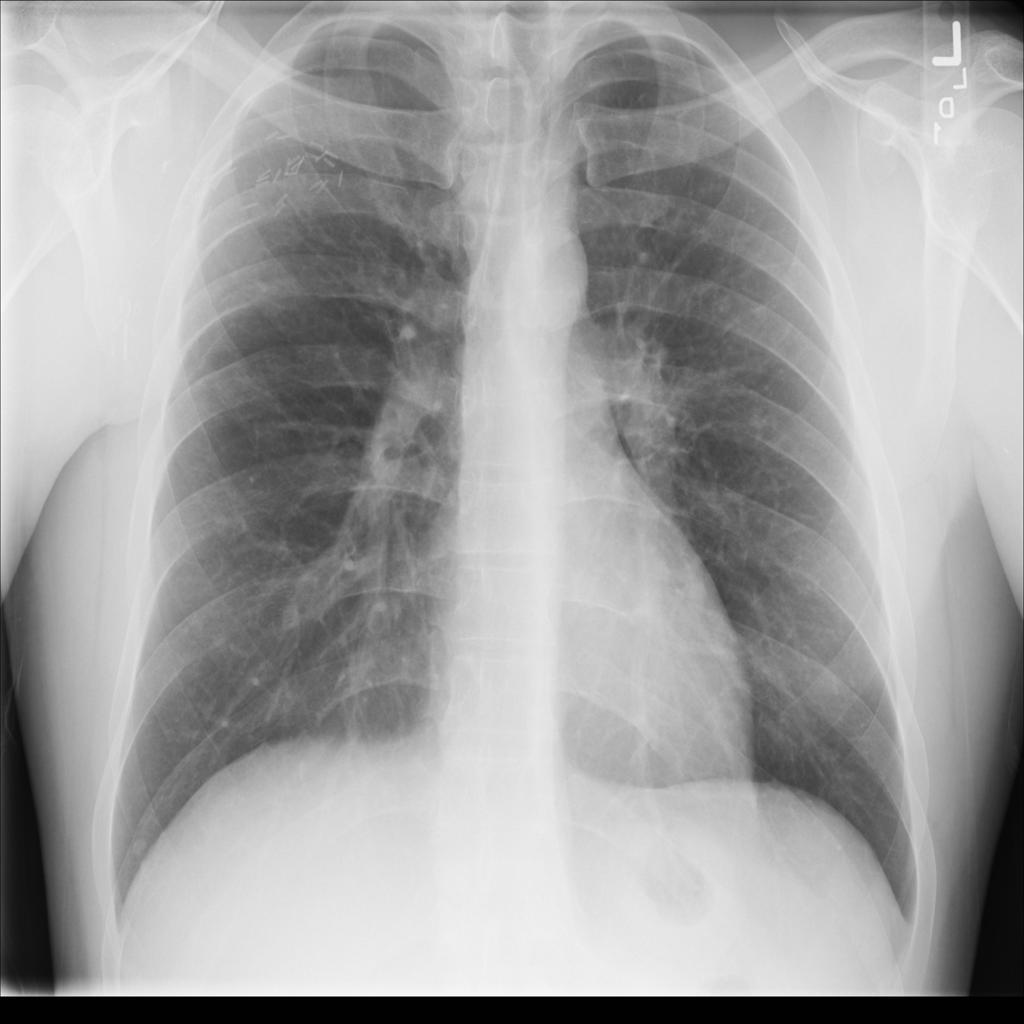nodule: (116, 818, 164, 870)
